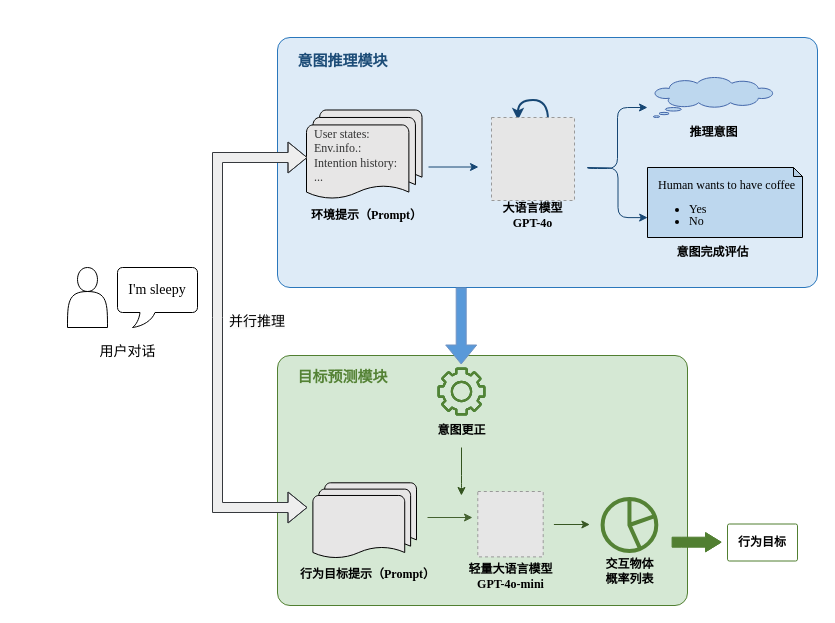
This 835x623 diagram has some shape labels left out. Grey dashed boxes stand in for pictures. The shapes that lost their labels are listed below. From the top down, each one's centre as x and y in pixels, then its label:
the point at 712,97: Human wants to have a coffee
the point at 364,520: Object List: Action history:
